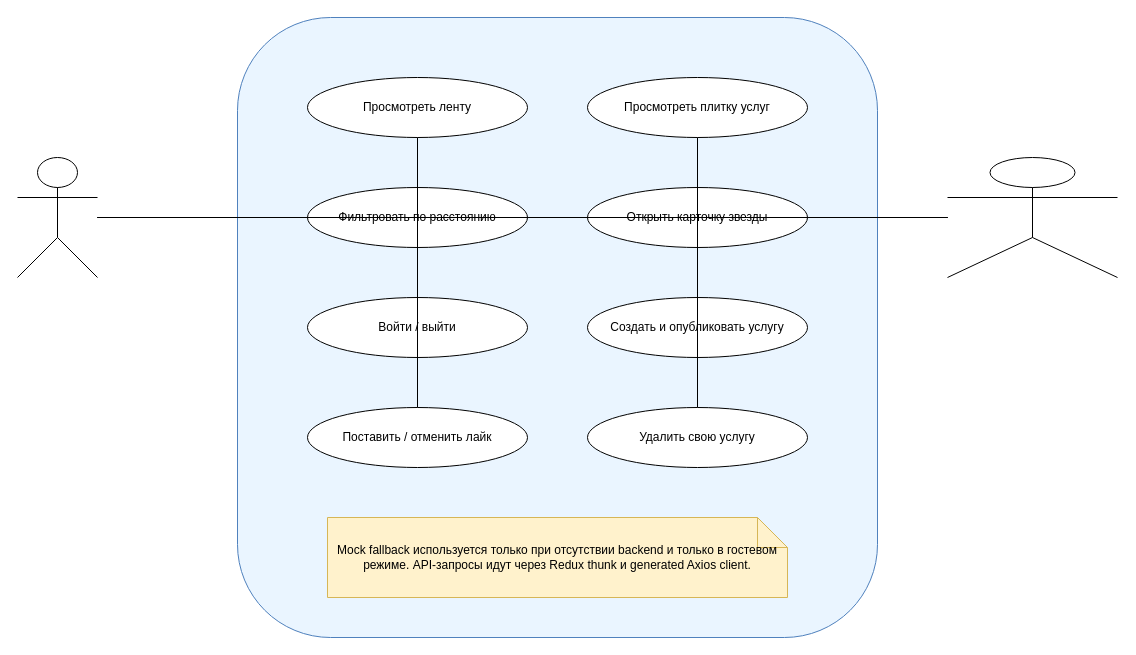
This 1136x655 diagram has some shape labels left out. The shapes that lost their labels are listed below. From the top down, each one's box as (x1, y1, x2, y2) in pixels, then its label:
(16, 156, 98, 278): Гость
(946, 156, 1118, 278): Авторизованный пользователь
(236, 16, 878, 638): React-интерфейс каталога звёзд
